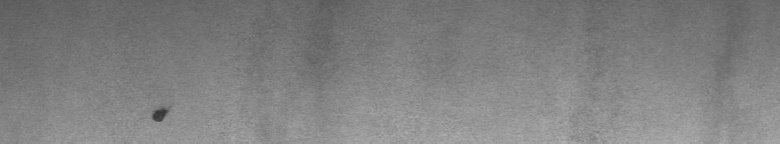fi: (146, 98, 172, 131)
